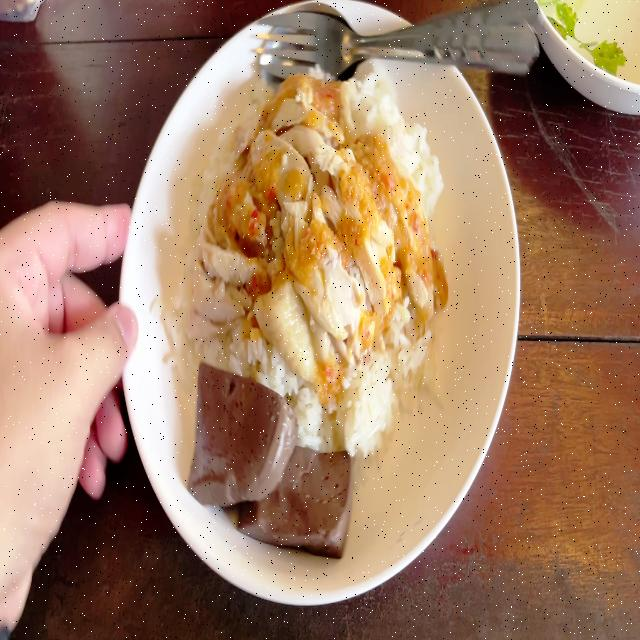boiled_chicken: (210, 84, 411, 380)
boiled_chicken_blood_jelly: (185, 352, 287, 509), (246, 424, 350, 553)
chicken_rice: (160, 54, 458, 571)
